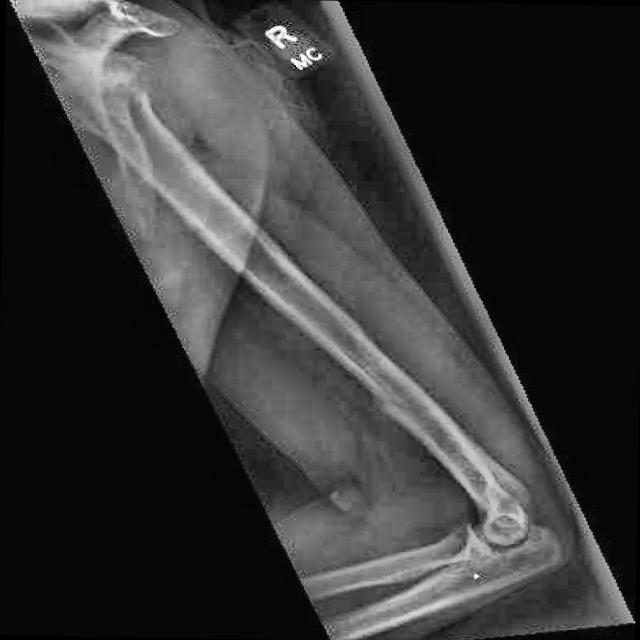humerus: (314, 333, 508, 460)
